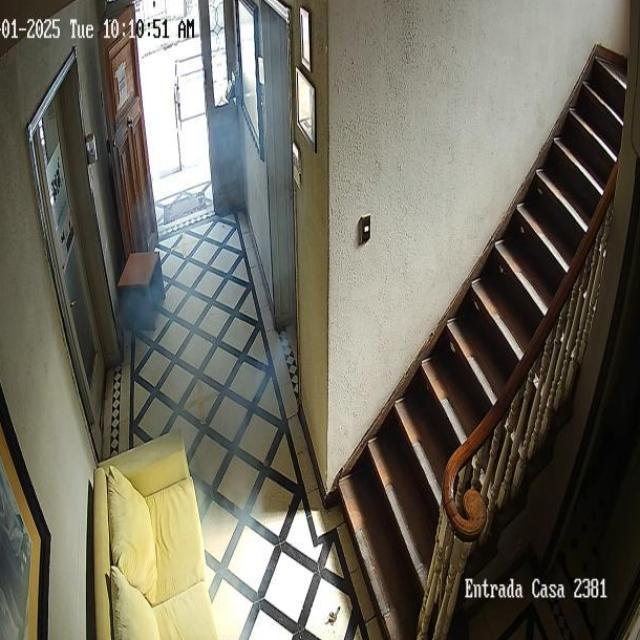fire: (109, 13, 294, 640)
